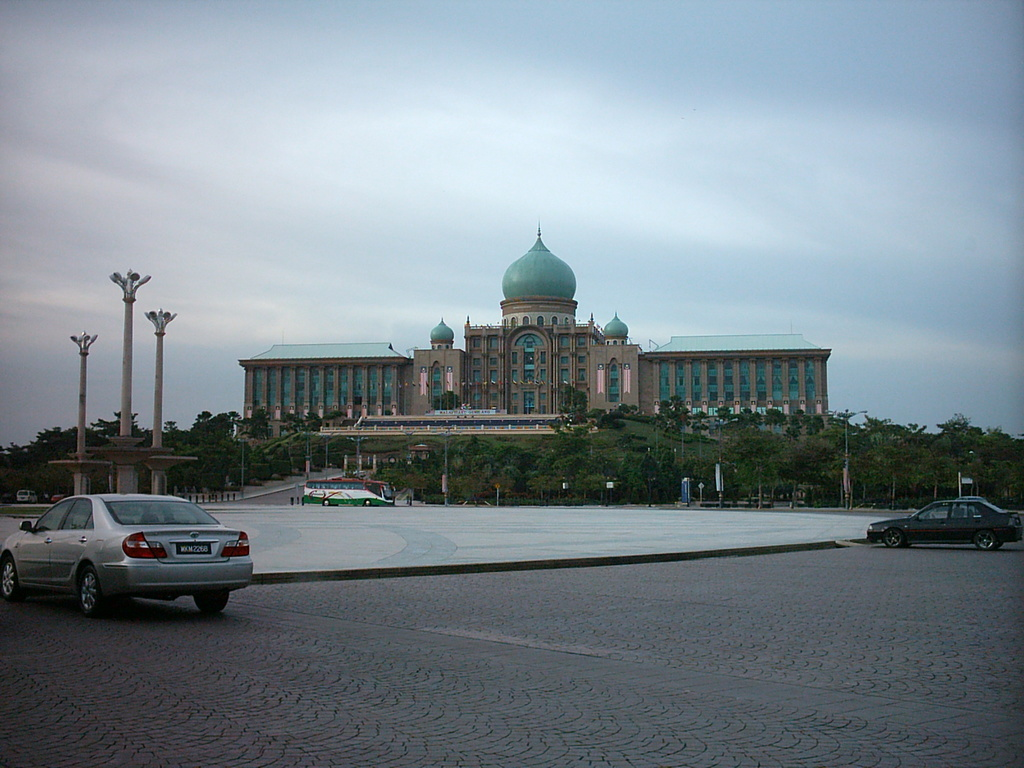mobil: (3, 489, 258, 623), (874, 492, 1024, 560)
